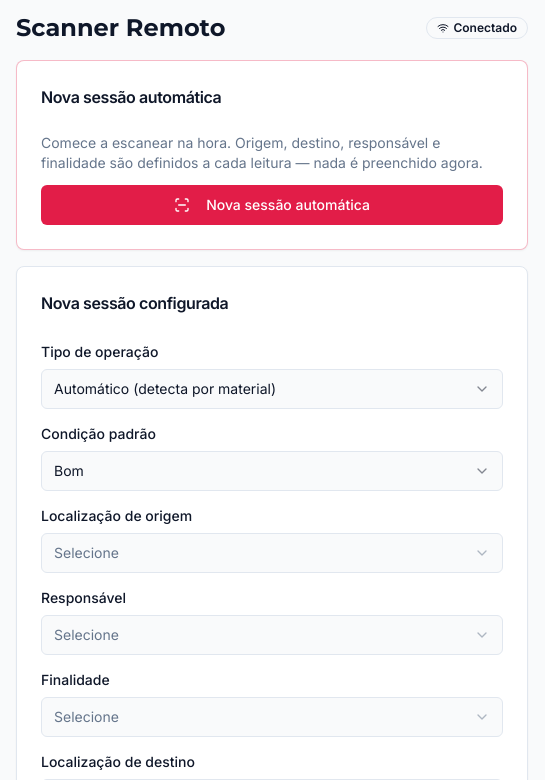
Test: ScannerRemoto - E4: leitura read-only na sessão automática › custódia vinculada a evento mostra 'Em evento' + nome + data
Click the button "Nova sessão automática" at [272, 205], box [41,185,503,225]
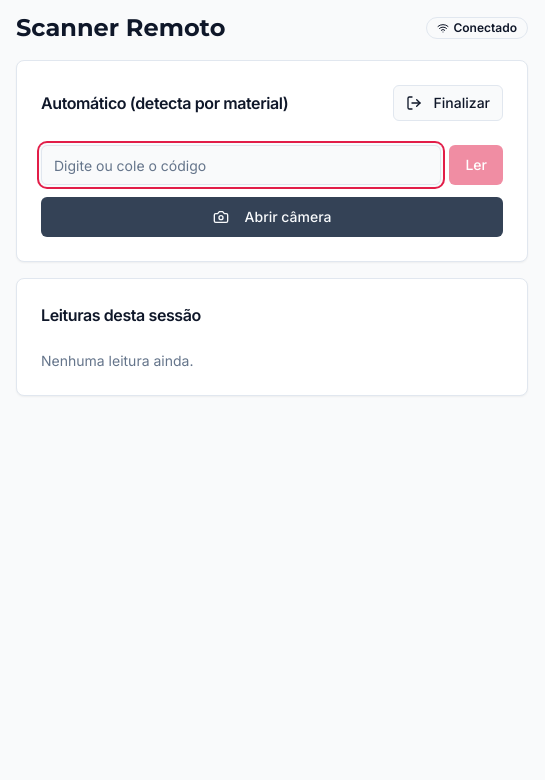
Type "PAT-218" into the field with placeholder "Digite ou cole o código" at [241, 165], box [41,145,441,185]
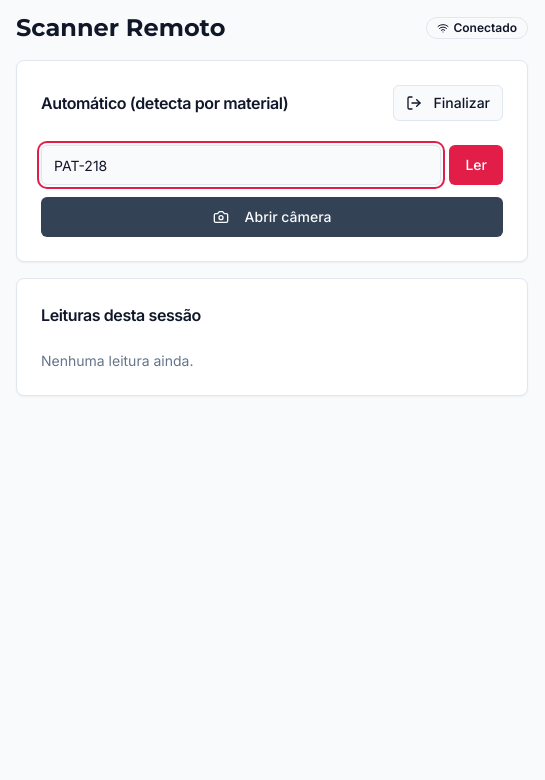
Click the button "Ler" at [476, 165], box [449,145,503,185]
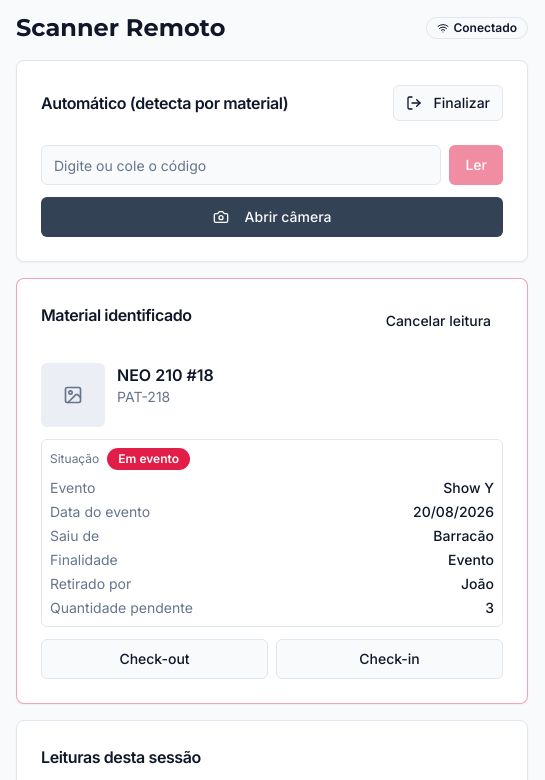
Now the text "Em evento" is shown, box [107,448,190,470]
Now the text "Show Y" is shown, box [443,478,494,498]
Now the text "20/08/2026" is shown, box [413,502,494,522]
